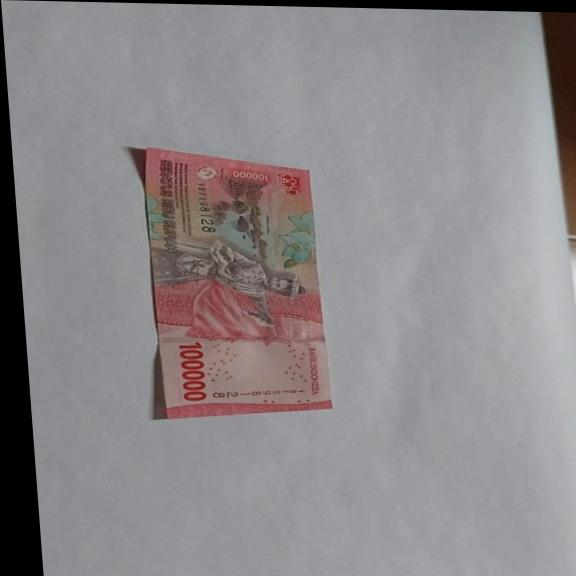Kertas: (132, 146, 335, 424), (176, 341, 210, 403)
